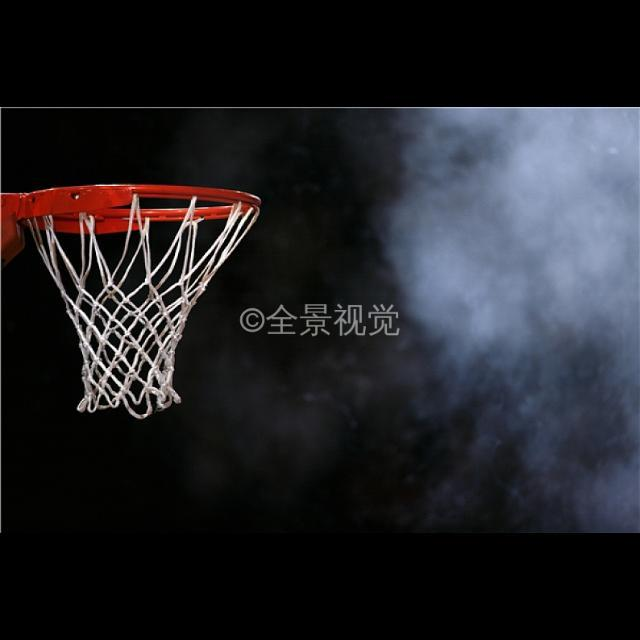rim: (25, 182, 261, 420)
